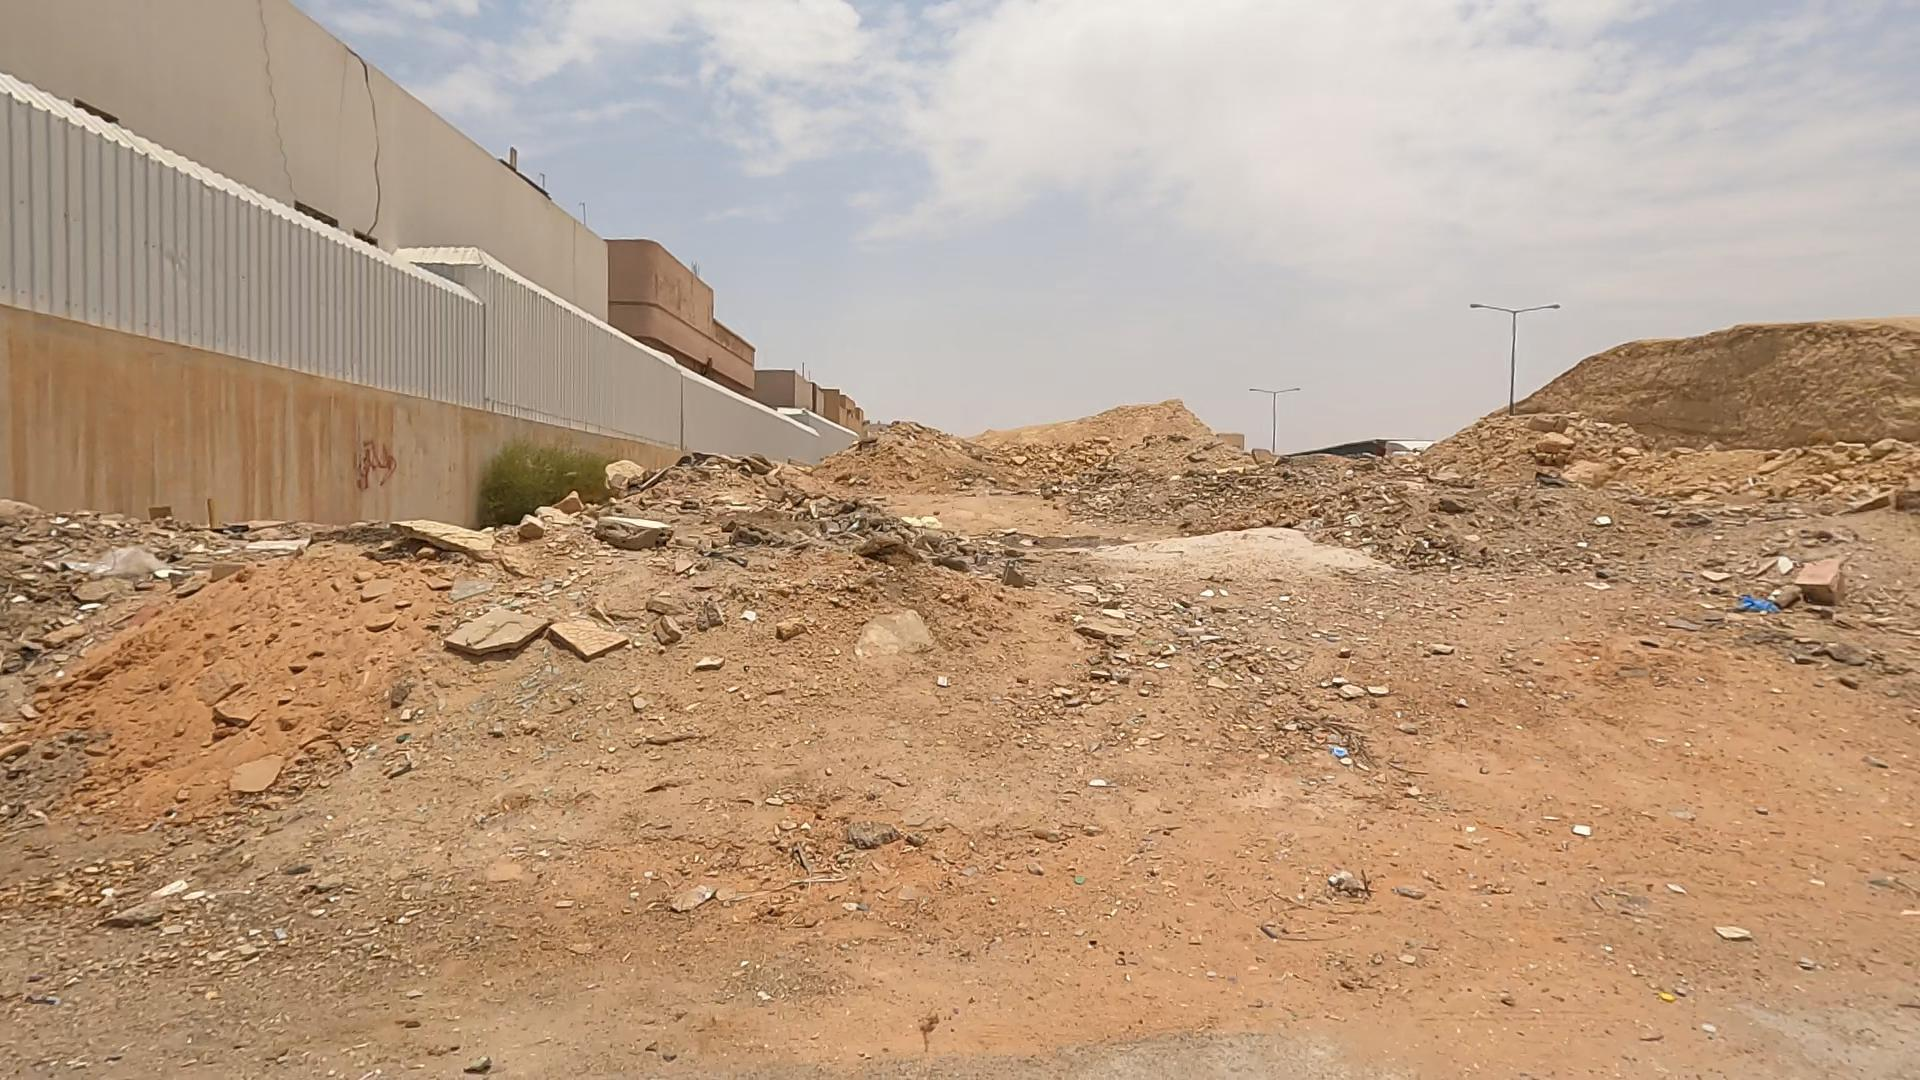SAND_ON_ROAD: (35, 25, 1920, 1080)
